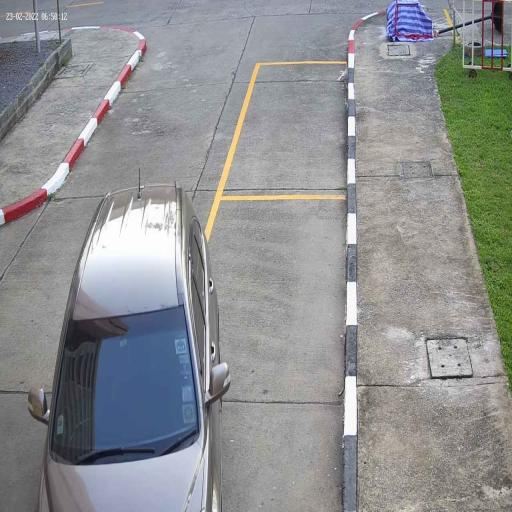car: (36, 180, 225, 512)
